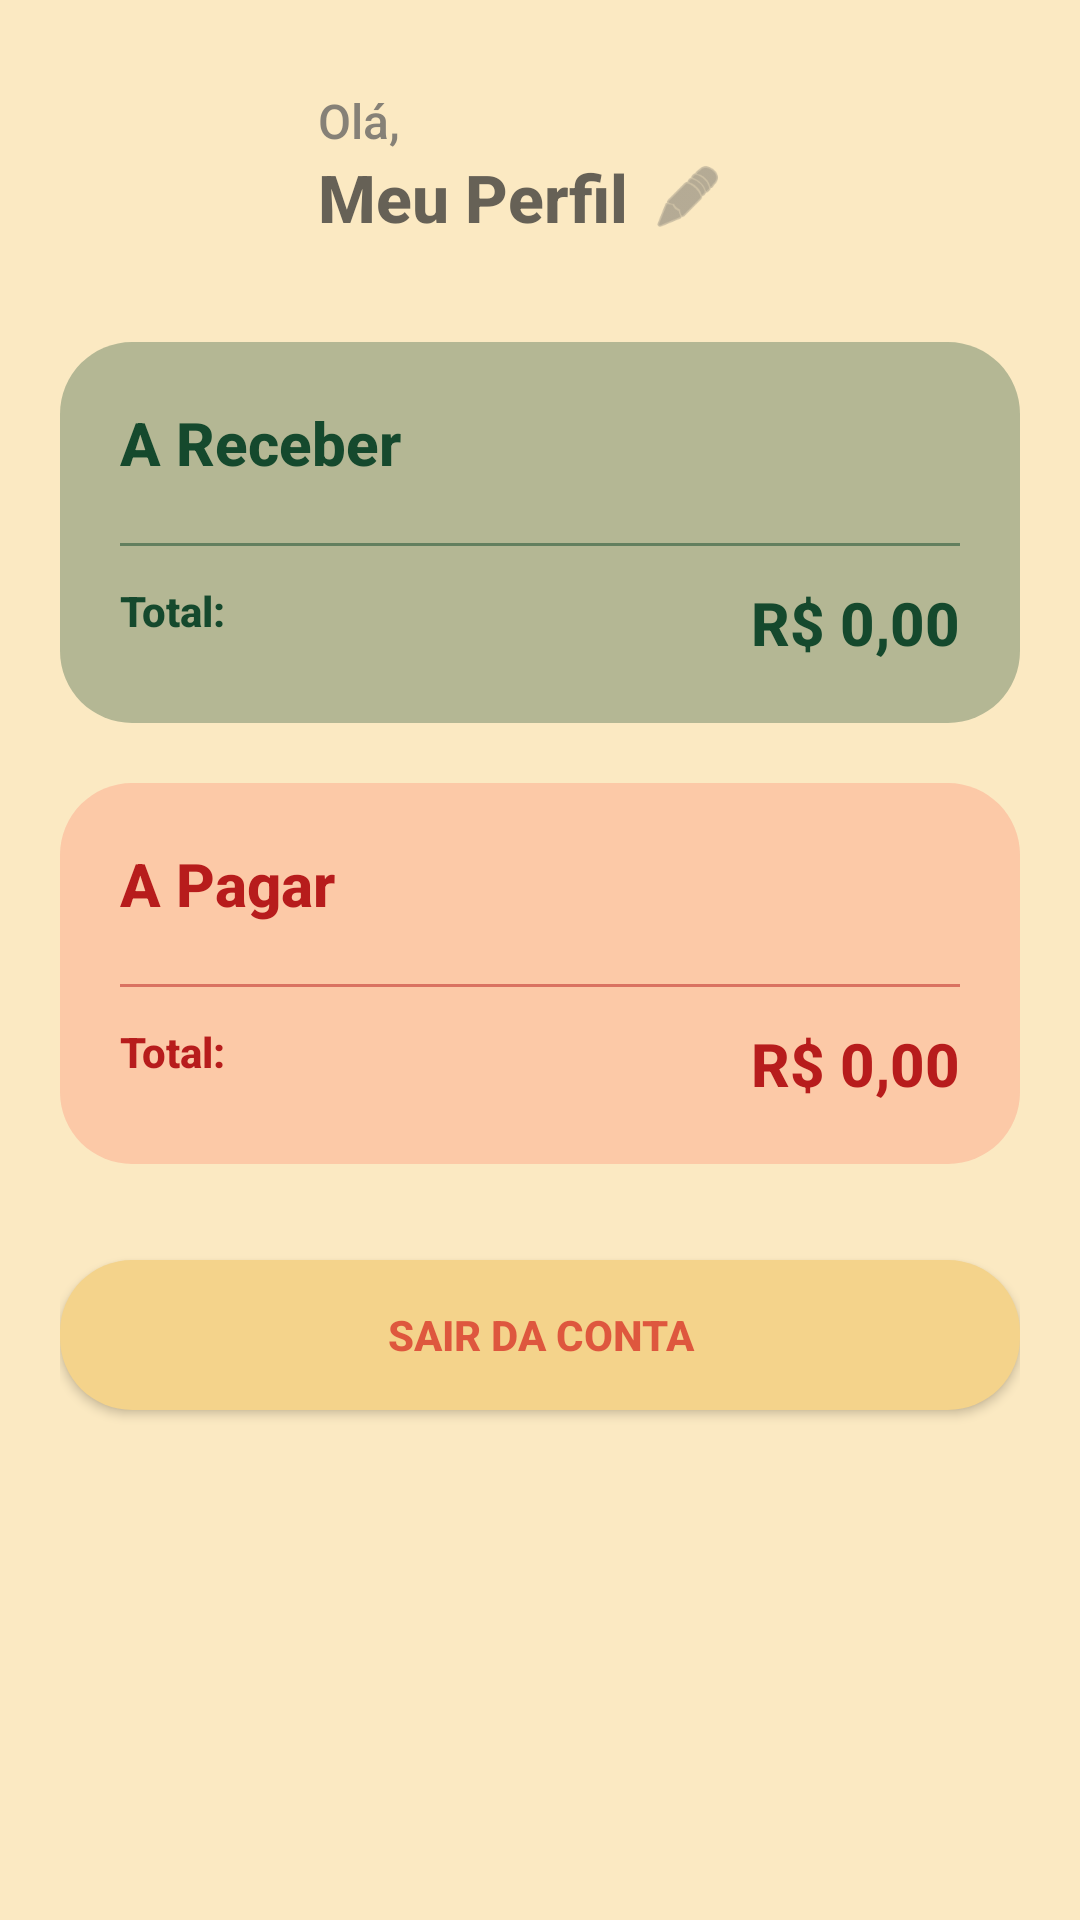

Screen size 1080x1920. Icon name, then its center in pixels as (x=x, y=y):
edit: (x=688, y=196)
